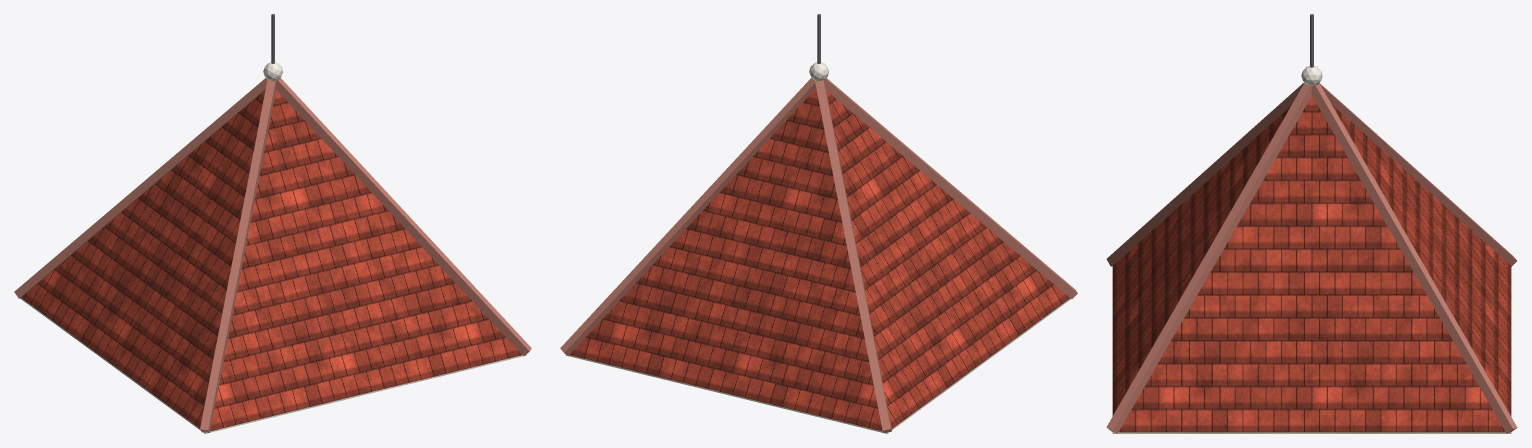
The model's file is tower_roof.glb.
3 renders of one model, left to right at view 1: azimuth 30°, elevation 25°; view 2: azimuth 150°, elevation 25°; view 3: azimuth 270°, elevation 25°, orthographic. The views are drawn at different scales.
Parts seen in each view (by area): view 1: tower_roof_roof, tower_roof_ridge, tower_roof_plaster; view 2: tower_roof_roof, tower_roof_ridge, tower_roof_plaster; view 3: tower_roof_roof, tower_roof_ridge, tower_roof_plaster.
Part boxes in pixels (x1=…): tower_roof_roof: x1=21, y1=90, x2=521, y2=432; tower_roof_ridge: x1=14, y1=78, x2=531, y2=432; tower_roof_plaster: x1=20, y1=298, x2=526, y2=433; tower_roof_roof: x1=569, y1=88, x2=1070, y2=432; tower_roof_ridge: x1=560, y1=77, x2=1077, y2=432; tower_roof_plaster: x1=565, y1=298, x2=1070, y2=433; tower_roof_roof: x1=1112, y1=96, x2=1511, y2=432; tower_roof_ridge: x1=1106, y1=82, x2=1517, y2=433; tower_roof_plaster: x1=1112, y1=432, x2=1511, y2=433.
Bounding box in the file's own units: 5.37 × 4.82 × 5.37.
Materials: 5 (2 with a texture image).
